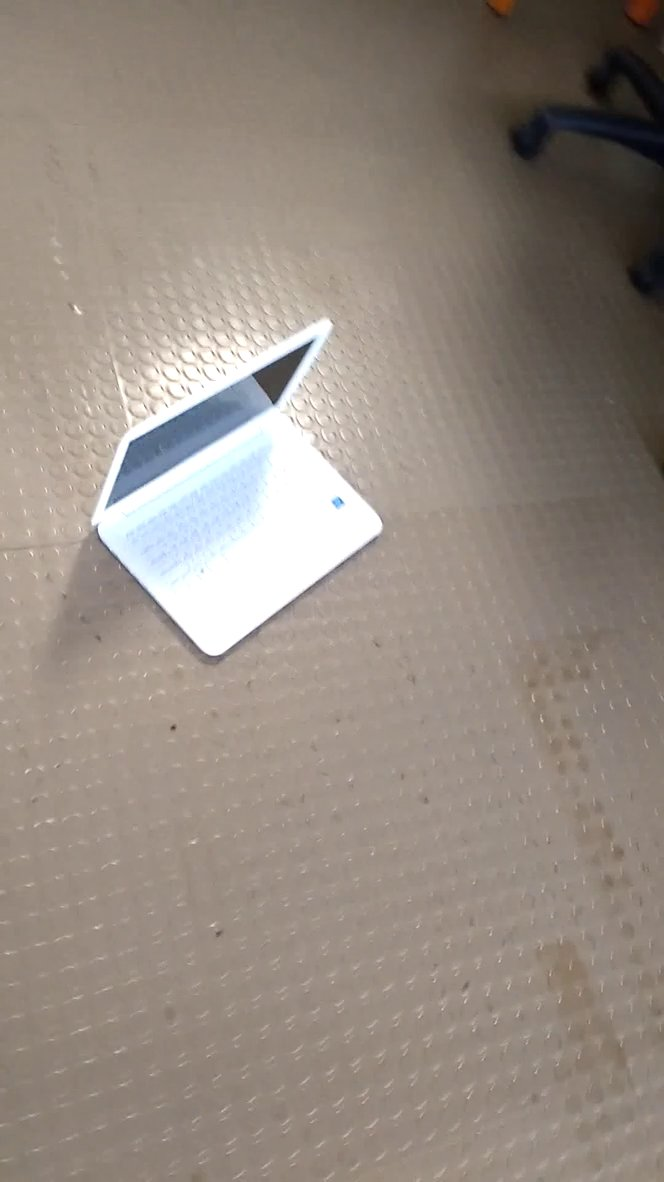laptop: (86, 311, 391, 672)
